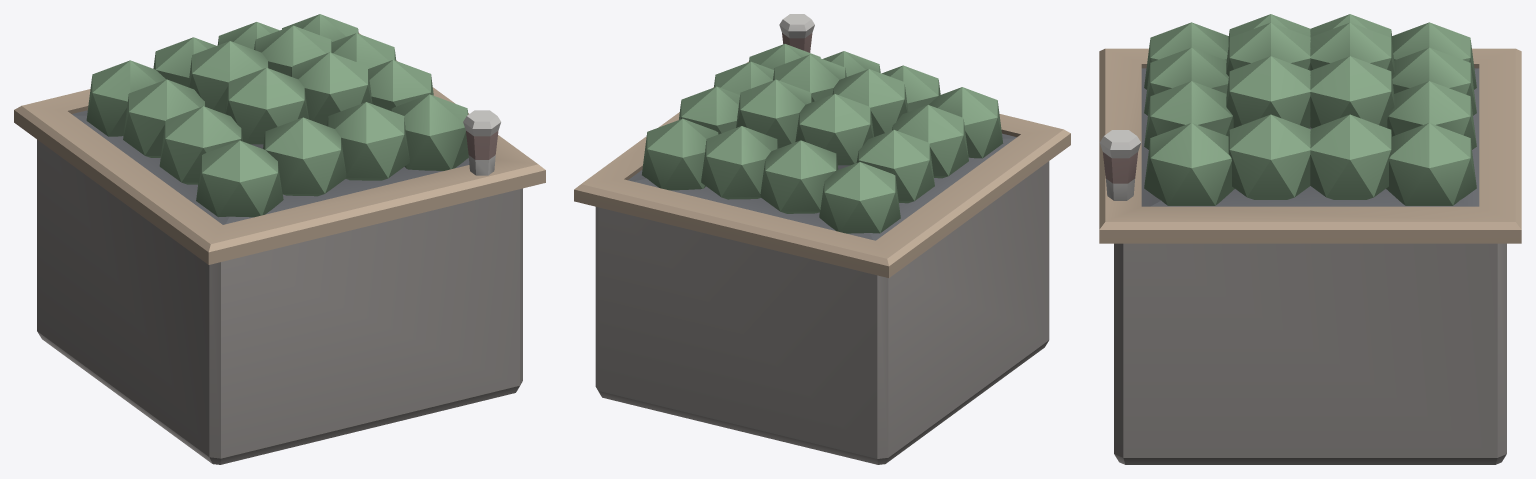
Rendered from planterbox.glb.
The picture shows the model from 3 angles, left to right: view 1: azimuth 30°, elevation 25°; view 2: azimuth 150°, elevation 25°; view 3: azimuth 270°, elevation 25°; orthographic projection. The views are drawn at different scales.
Visible parts, largest first — view 1: planterbox; view 2: planterbox; view 3: planterbox.
Part boxes in pixels (bbox=[...]): planterbox: bbox=[14, 14, 545, 464]; planterbox: bbox=[574, 14, 1070, 464]; planterbox: bbox=[1099, 14, 1521, 464].
Size of the model in its own units: 1 by 0.9008 by 1.
